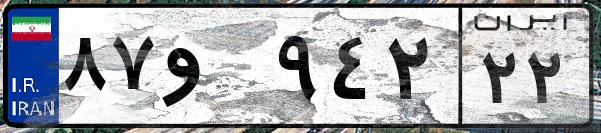2: (385, 28, 445, 110), (475, 38, 525, 113), (525, 38, 570, 115)
4: (330, 28, 385, 110)
7: (110, 28, 158, 98)
8: (57, 26, 110, 100)
9: (270, 28, 330, 110)
و: (158, 20, 270, 120)
